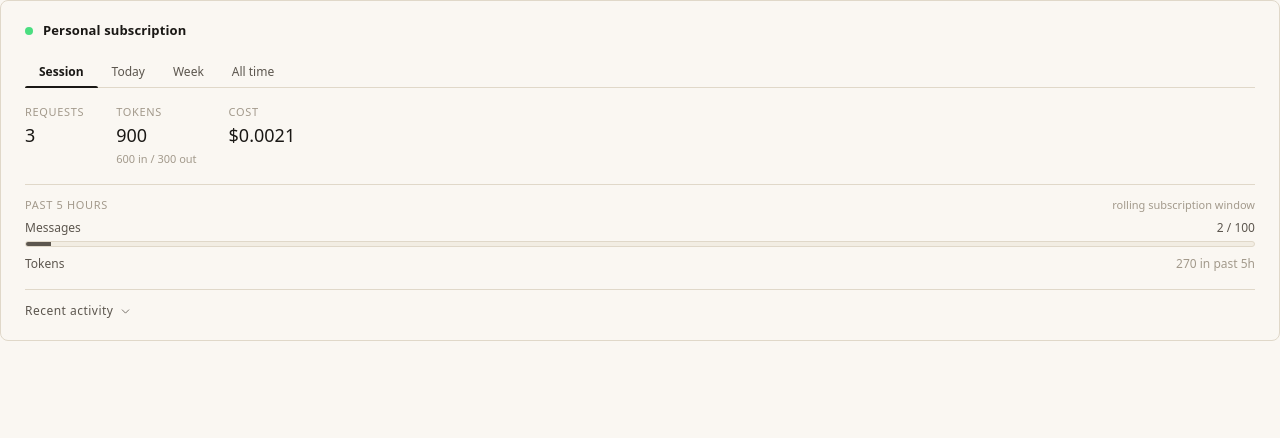
PersonalUsageTile — recent activity › expands recent activity on click and shows event rows
Click the button "Recent activity" at (79, 311), box [25,302,132,320]
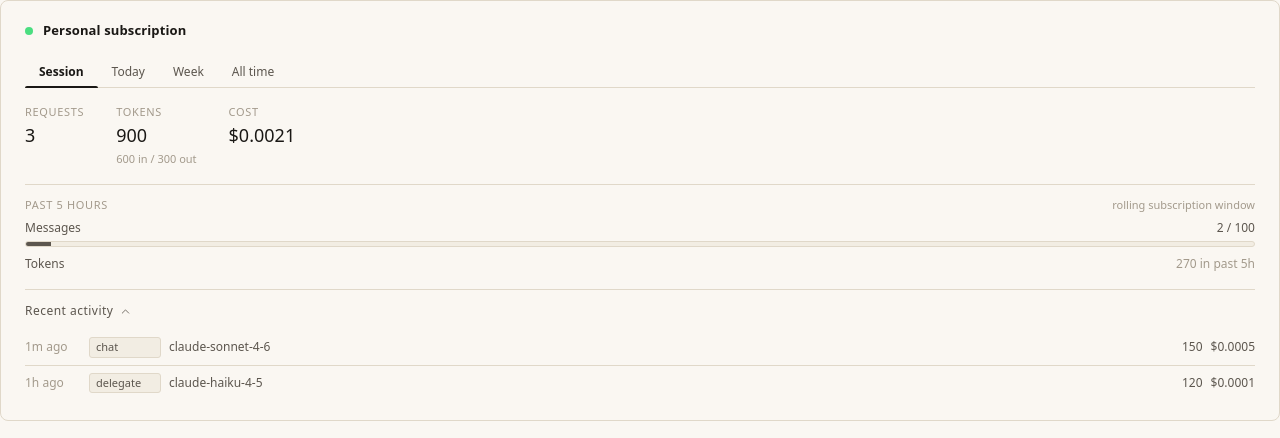
Check: the button "Recent activity" is expanded, box [25,302,132,320]
Check: the text "chat" is shown, box [89,337,161,358]
Check: the text "delegate" is shown, box [89,372,161,393]
